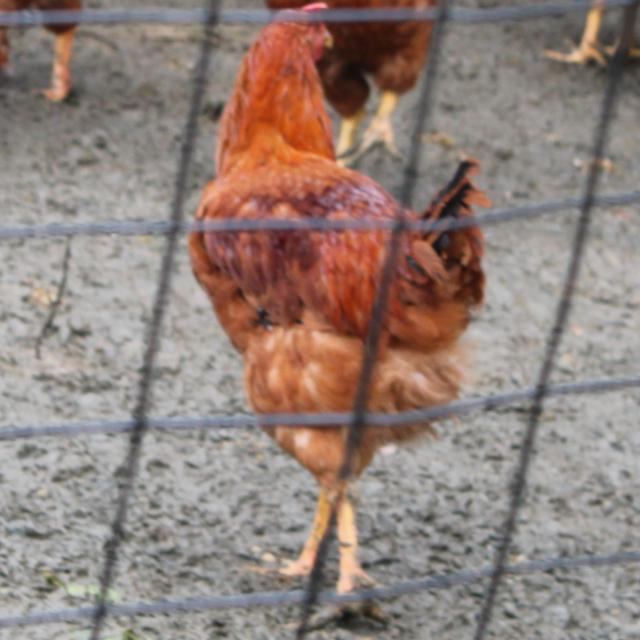cook: (196, 23, 399, 220), (188, 229, 393, 415), (364, 212, 497, 429), (266, 418, 374, 598), (401, 155, 501, 250), (333, 395, 433, 479)
